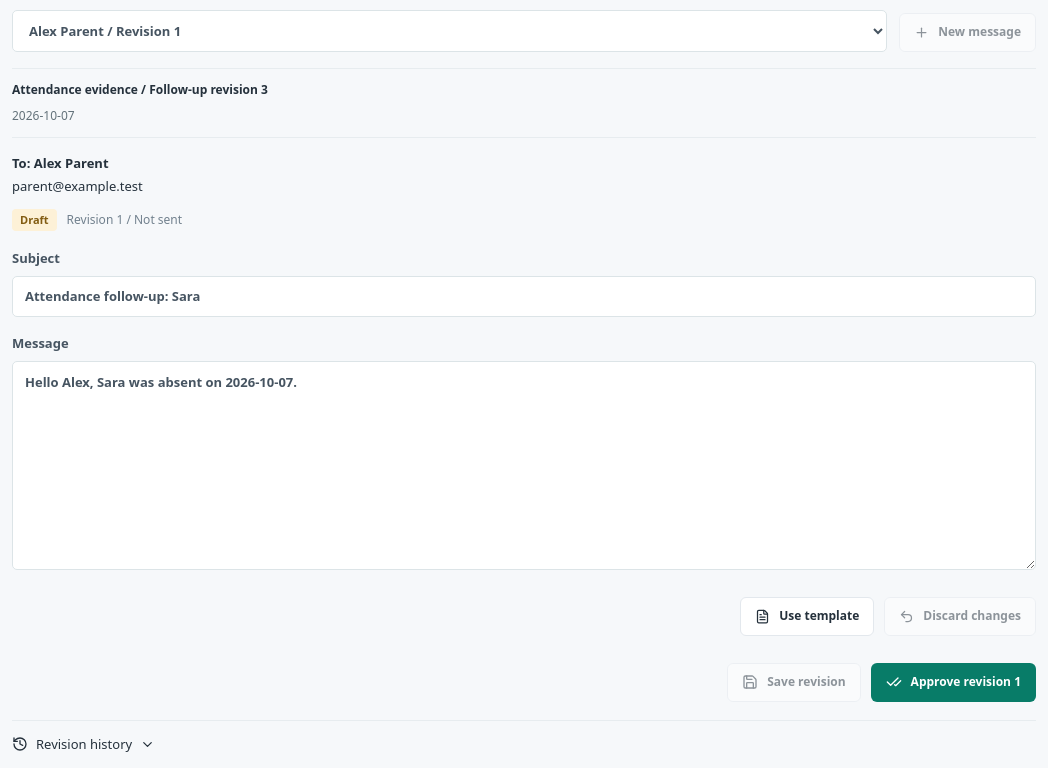
Test case: MessageReview › loads immutable revision history on demand and paginates older revisions
(page scrolled)
Click the button "Revision history" at (84, 744), box [12,720,1036,767]
(page scrolled)
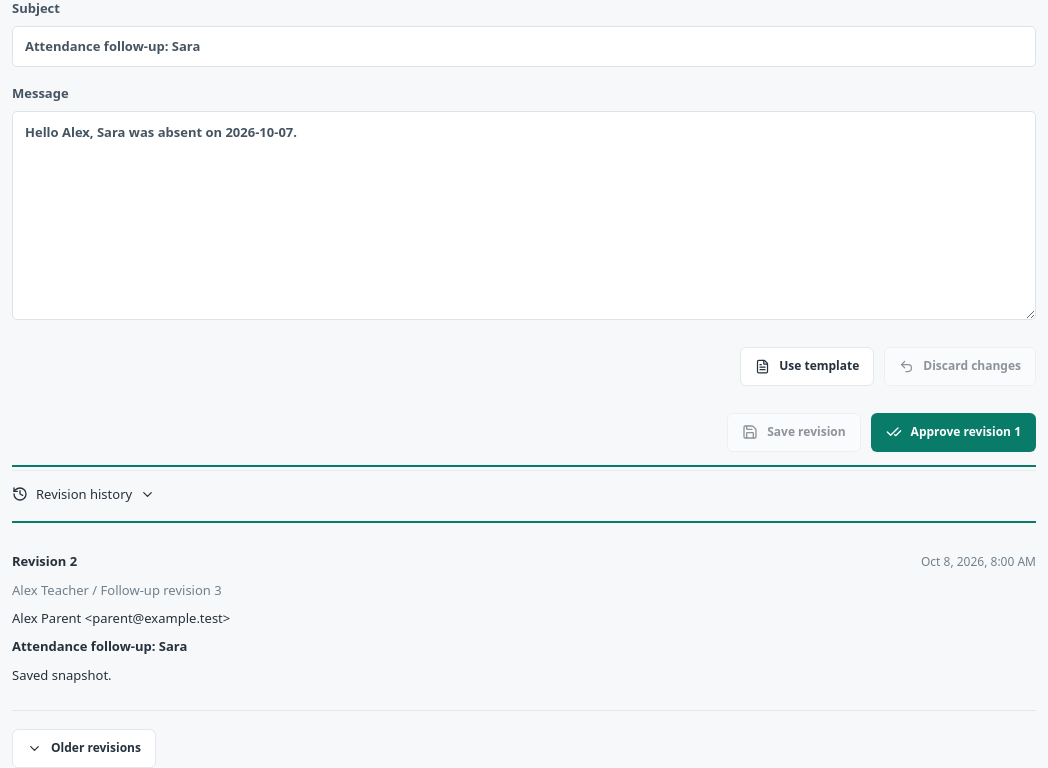
Expected: the text "Revision 2" is shown, [12,552,77,572]
Click the button "Older revisions" at (84, 748), box [12,729,156,767]
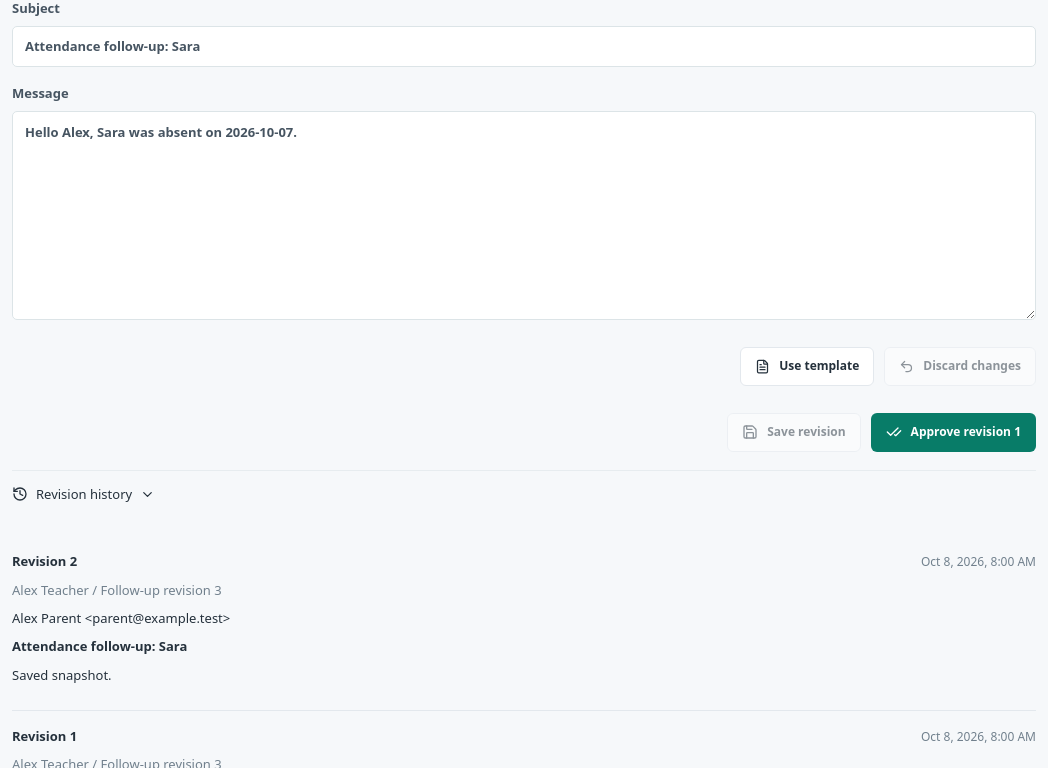
Expected: the text "Revision 1" is shown, [12,727,77,746]
Expected: the text "Saved snapshot." is shown 2 times
